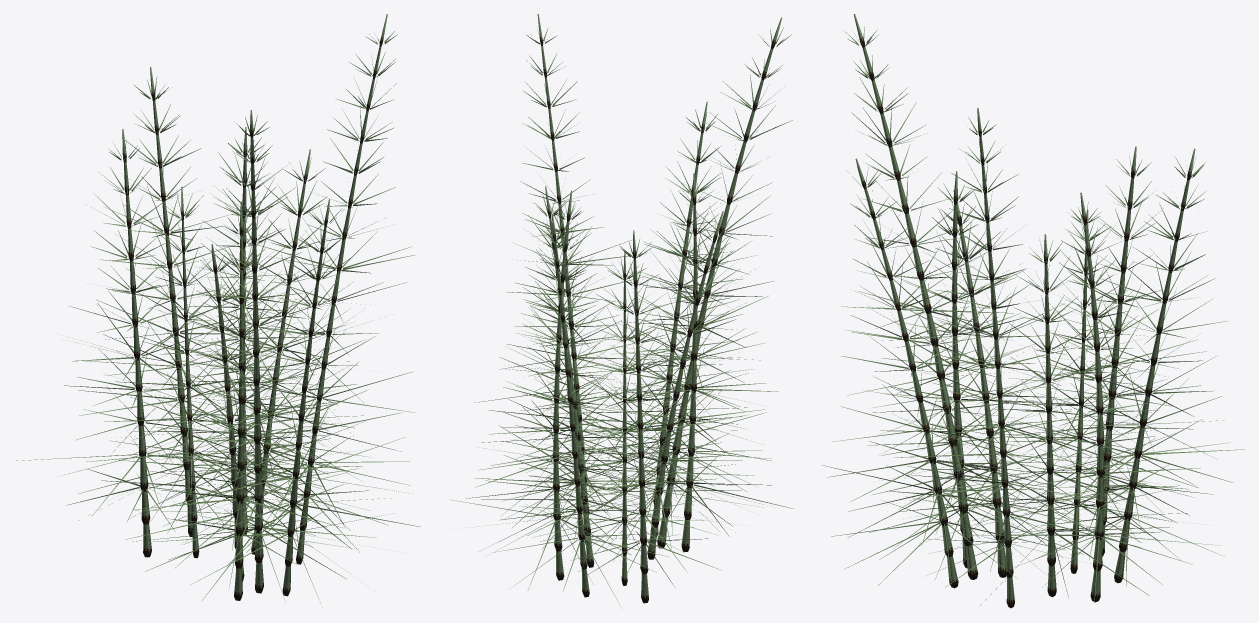
File: horsetail_v03_LOD1.fbx
The picture shows the model from 3 angles, left to right: view 1: azimuth 30°, elevation 25°; view 2: azimuth 150°, elevation 25°; view 3: azimuth 270°, elevation 25°; orthographic projection. The views are drawn at different scales.
Parts seen in each view (by area): view 1: horsetail_v03_LOD1; view 2: horsetail_v03_LOD1; view 3: horsetail_v03_LOD1.
Part boxes in pixels (<box>): horsetail_v03_LOD1: <box>16,14,420,603</box>; horsetail_v03_LOD1: <box>450,14,793,605</box>; horsetail_v03_LOD1: <box>822,14,1244,608</box>.
Bounding box in the file's own units: 43.65 × 53.79 × 74.89.
Materials: 2 (2 with a texture image).
